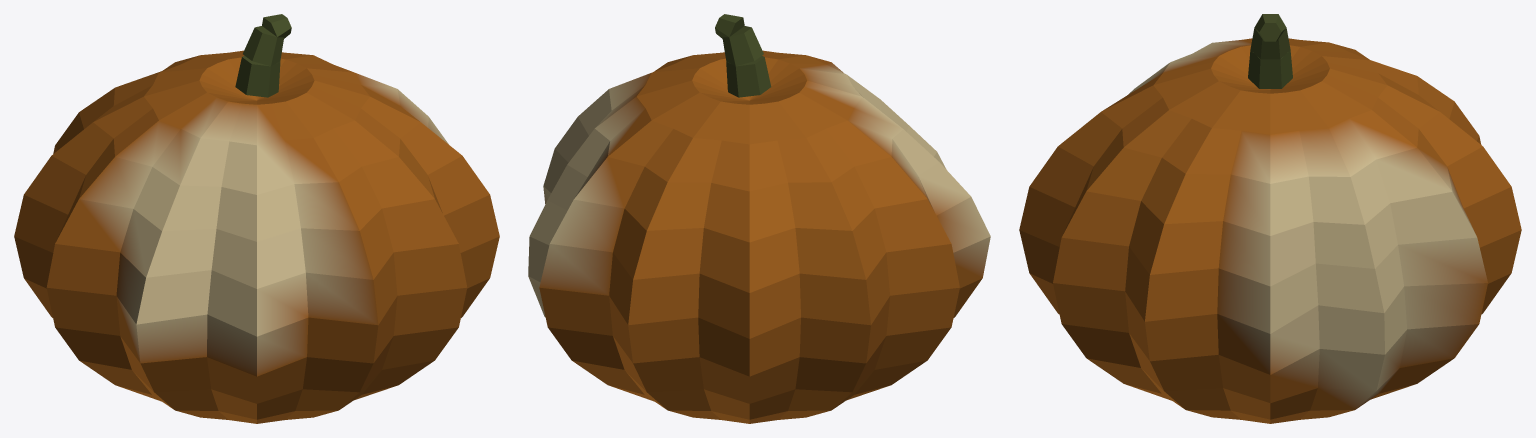
The model's file is pumpkin_prize_medium_gnawed.glb.
3 renders of one model, left to right at view 1: azimuth 30°, elevation 25°; view 2: azimuth 150°, elevation 25°; view 3: azimuth 270°, elevation 25°, orthographic. The views are drawn at different scales.
Visible parts, largest first — view 1: Pumpkin; view 2: Pumpkin; view 3: Pumpkin.
Boxes of the visible parts, <box> form: Pumpkin: <box>14,14,499,423</box>; Pumpkin: <box>528,14,990,423</box>; Pumpkin: <box>1019,14,1521,423</box>.
Bounding box in the file's own units: 1.19 × 1.02 × 1.2.
